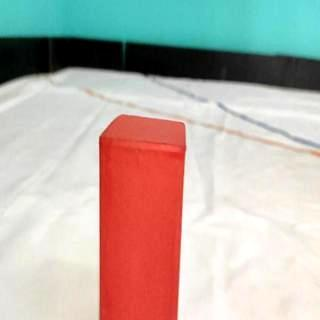redbox: (100, 113, 186, 320)
